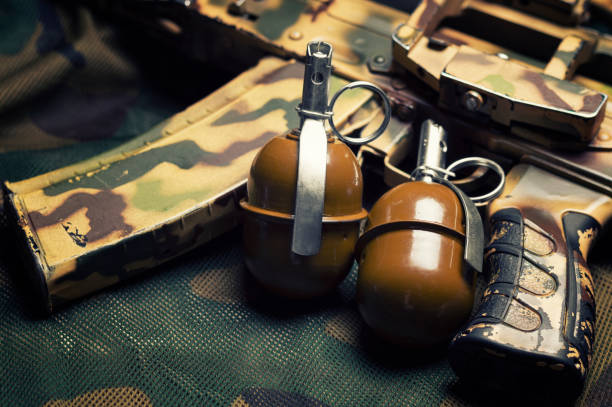e1: (364, 117, 504, 353), (244, 41, 362, 312)
